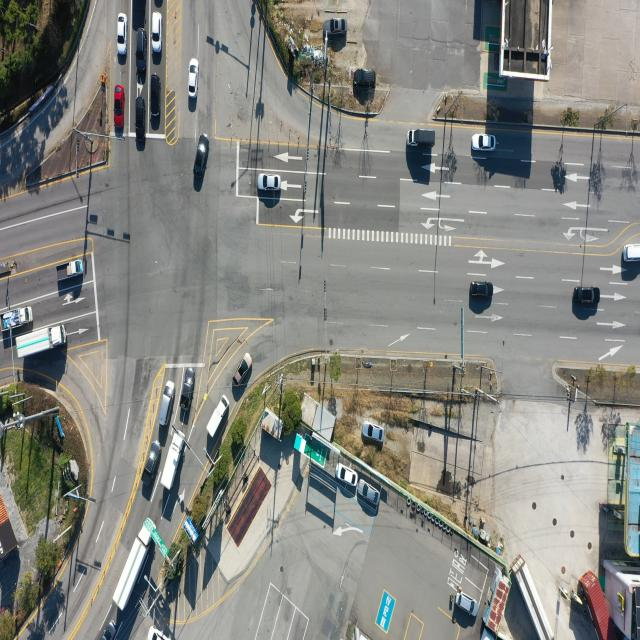car: (143, 440, 160, 489), (194, 131, 211, 178), (159, 381, 176, 427), (180, 364, 196, 412), (136, 26, 148, 86), (234, 353, 254, 388), (149, 73, 161, 127), (455, 588, 478, 616), (114, 86, 125, 136), (358, 483, 379, 507), (573, 285, 599, 304), (116, 13, 127, 55), (470, 281, 494, 300), (338, 466, 358, 488), (135, 97, 146, 137), (324, 19, 346, 39), (362, 422, 383, 442), (473, 134, 496, 152), (150, 12, 160, 52), (354, 68, 376, 86), (187, 59, 197, 97), (260, 173, 282, 190), (100, 615, 114, 640), (623, 243, 640, 262), (148, 627, 167, 640), (152, 0, 162, 9)
medium_truck: (115, 516, 157, 612), (517, 553, 557, 638), (16, 324, 69, 360), (158, 432, 184, 493)
small_truck: (206, 394, 229, 438), (3, 306, 34, 330), (58, 261, 85, 281), (408, 130, 435, 148), (479, 628, 493, 640)
